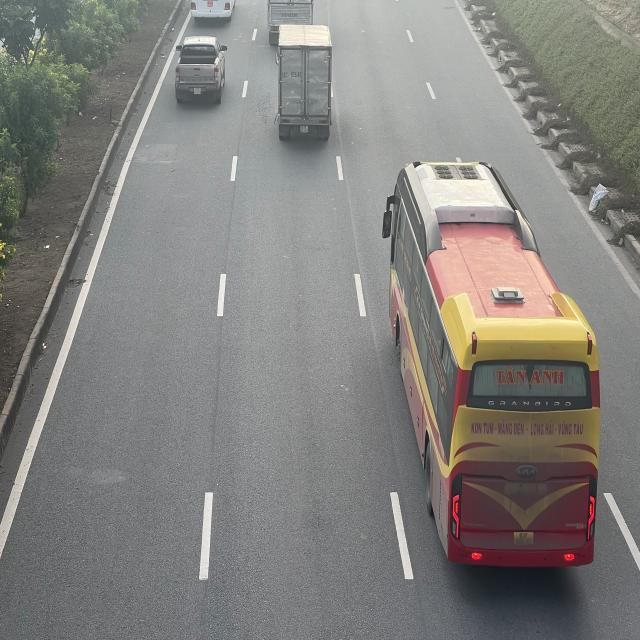car: (174, 34, 227, 102)
coach: (382, 160, 601, 568)
truck: (276, 20, 332, 136), (266, 0, 312, 42)
